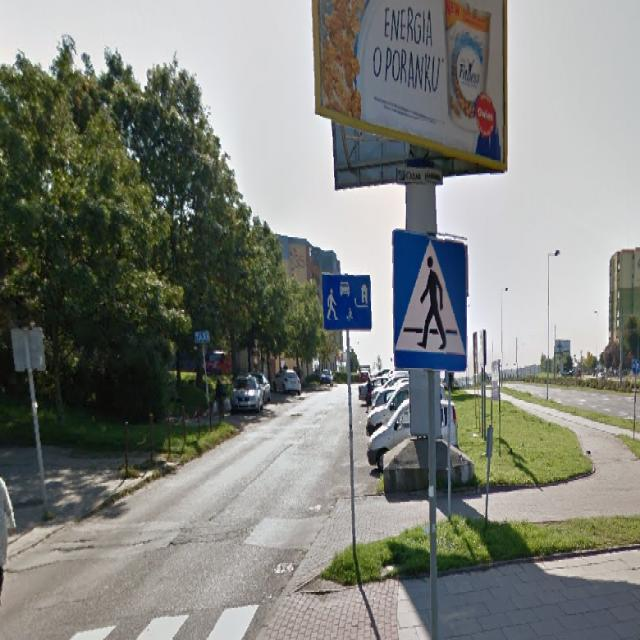Przejscie dla pieszych: (393, 228, 467, 377)
